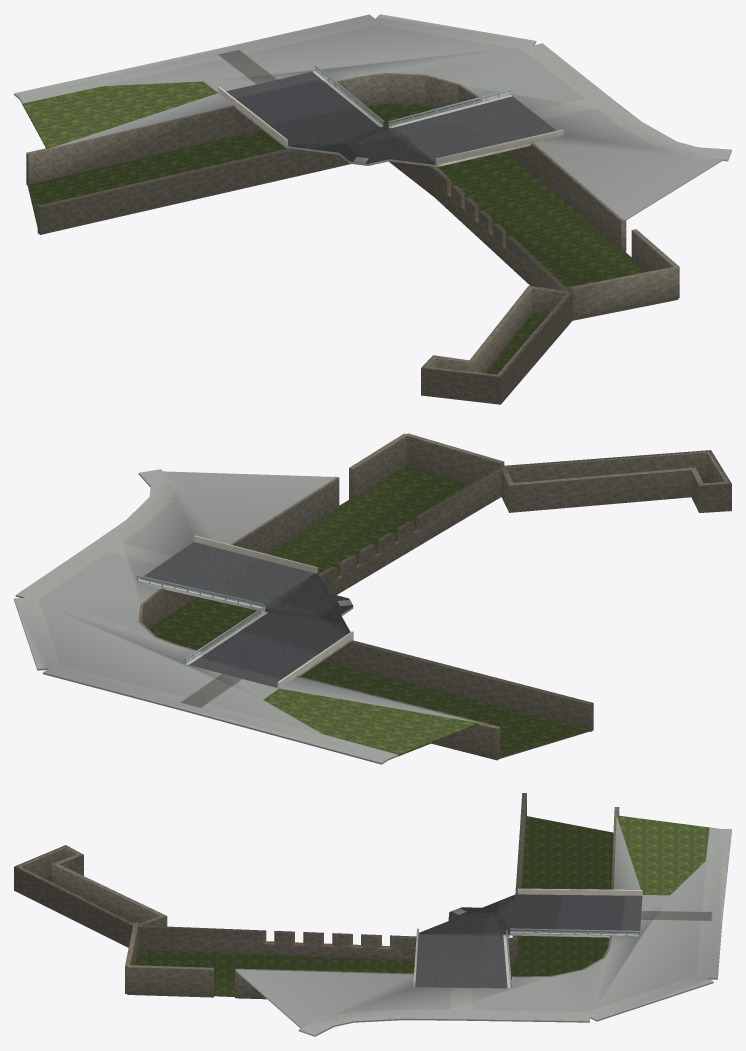
Rendered from site.glb.
The picture shows the model from 3 angles, top to bottom: view 1: azimuth 30°, elevation 25°; view 2: azimuth 150°, elevation 25°; view 3: azimuth 270°, elevation 25°; orthographic projection. The views are drawn at different scales.
Visible parts, largest first — view 1: R35_WALL_51946353_00_0, R38_PARK_APPROACH_GROUND, R35_MOAT_GROUND, R34_APPROACH_CONTINUOUS_DECK, R34_STONE_PARAPET_759554469, R58_POST_759554470_01; view 2: R38_PARK_APPROACH_GROUND, R35_WALL_51946353_00_0, R35_MOAT_GROUND, R34_APPROACH_CONTINUOUS_DECK, R34_STONE_PARAPET_759554469, R58_POST_759554470_01, R58_GLASS_759554470_00; view 3: R38_PARK_APPROACH_GROUND, R35_MOAT_GROUND, R35_WALL_51946353_00_0, R34_APPROACH_CONTINUOUS_DECK, R34_STONE_PARAPET_759554469, R58_POST_759554470_01.
Part boxes in pixels (<box>): R35_WALL_51946353_00_0: <box>26,73,679,404</box>; R38_PARK_APPROACH_GROUND: <box>14,14,731,219</box>; R35_MOAT_GROUND: <box>22,81,644,374</box>; R34_APPROACH_CONTINUOUS_DECK: <box>226,71,556,167</box>; R34_STONE_PARAPET_759554469: <box>218,87,563,164</box>; R58_POST_759554470_01: <box>314,65,511,126</box>; R38_PARK_APPROACH_GROUND: <box>14,469,475,764</box>; R35_WALL_51946353_00_0: <box>138,433,731,760</box>; R35_MOAT_GROUND: <box>149,465,709,758</box>; R34_APPROACH_CONTINUOUS_DECK: <box>138,542,353,687</box>; R34_STONE_PARAPET_759554469: <box>193,535,353,688</box>; R58_POST_759554470_01: <box>136,575,265,663</box>; R58_GLASS_759554470_00: <box>138,578,264,662</box>; R38_PARK_APPROACH_GROUND: <box>235,816,731,1036</box>; R35_MOAT_GROUND: <box>45,815,709,996</box>; R35_WALL_51946353_00_0: <box>14,793,619,999</box>; R34_APPROACH_CONTINUOUS_DECK: <box>415,893,642,988</box>; R34_STONE_PARAPET_759554469: <box>413,888,642,987</box>; R58_POST_759554470_01: <box>506,928,639,987</box>.
Bounding box in the file's own units: 110 × 6.83 × 135.
Materials: 14 (6 with a texture image).
